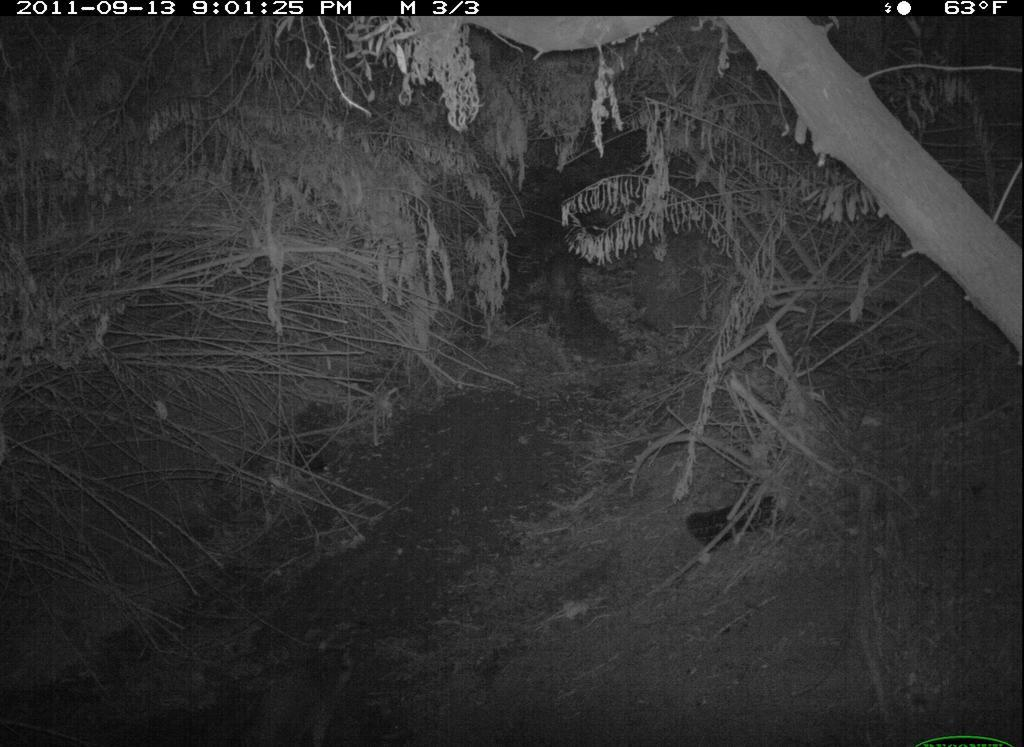raccoon: (538, 239, 605, 327)
